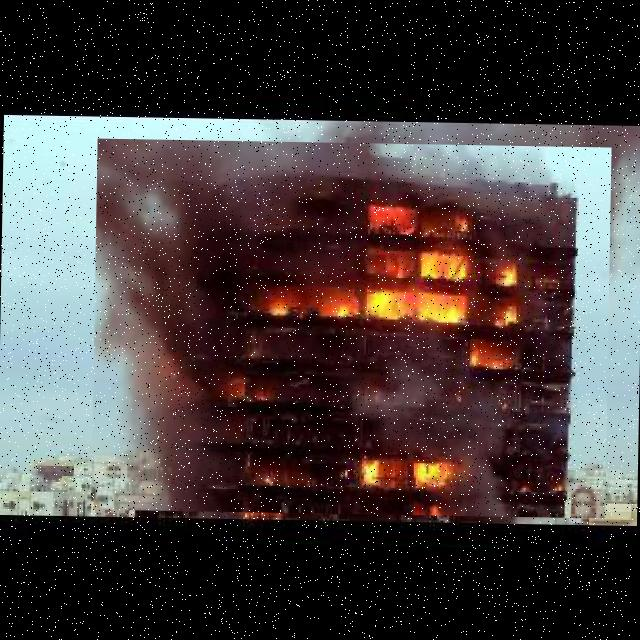fire: (91, 138, 611, 518)
